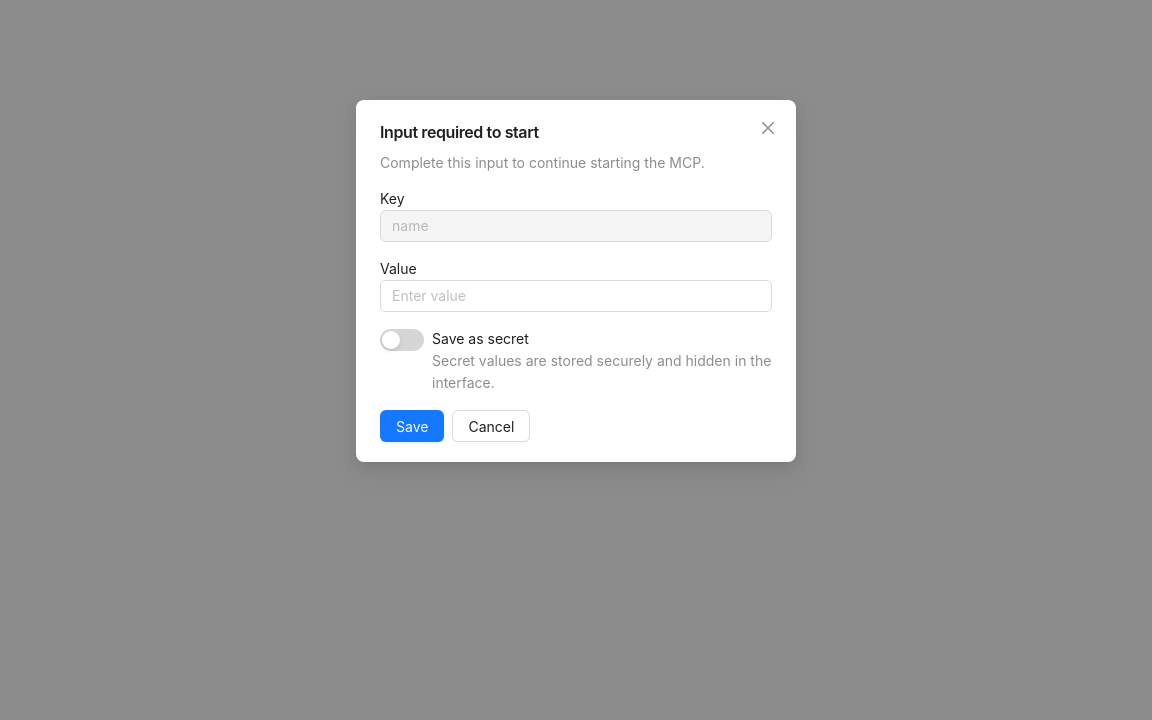
it: RuntimeInputPrompt › keeps a request visible when cancellation fails before native admission
The width and height of the screenshot is (1152, 720).
Click the button "Cancel". click: (491, 426)
box: [452, 410, 530, 442]
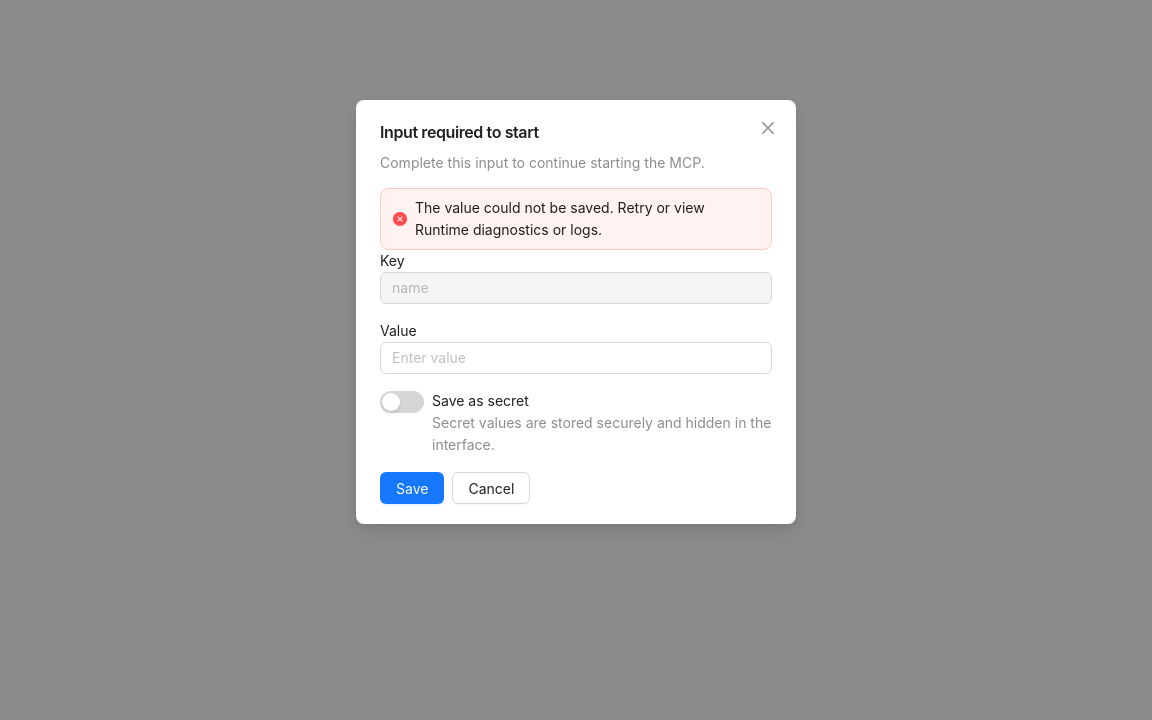
Result: the text "The value could not be saved. Retry or view Runtime diagnostics or logs." is shown at [415, 199, 705, 238]
